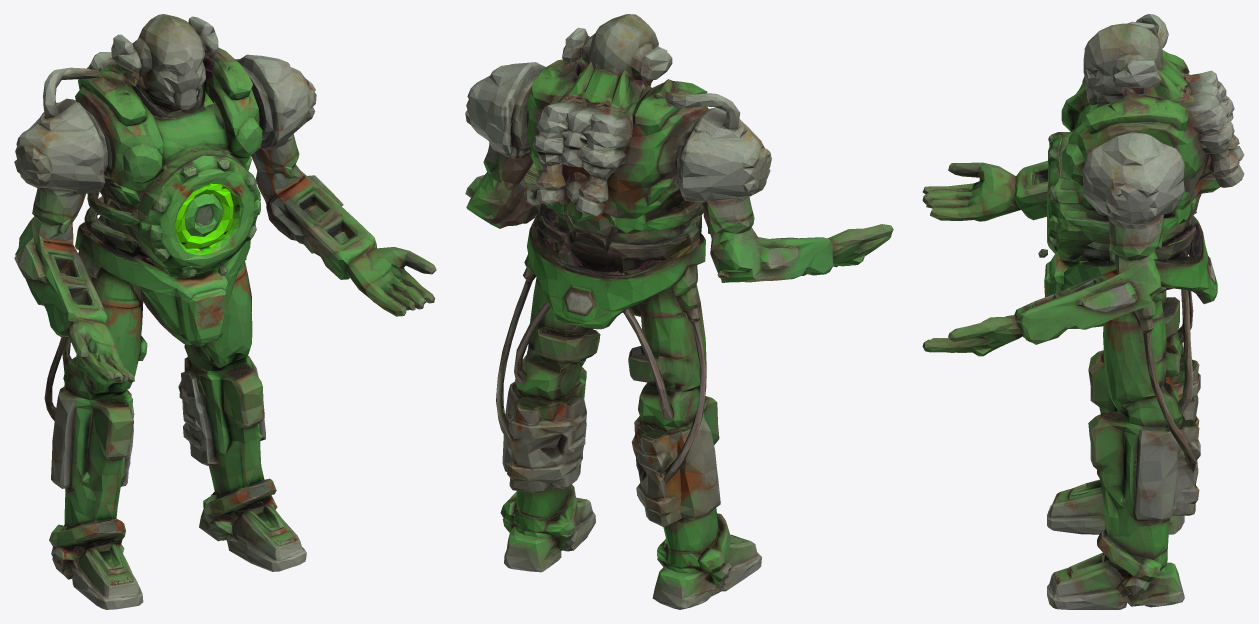
The model's file is toxic-pipe.glb.
3 renders of one model, left to right at view 1: azimuth 30°, elevation 25°; view 2: azimuth 150°, elevation 25°; view 3: azimuth 270°, elevation 25°, orthographic. The views are drawn at different scales.
Size of the model in its own units: 1.38 by 2 by 1.08.
1 material, 1 textured.
